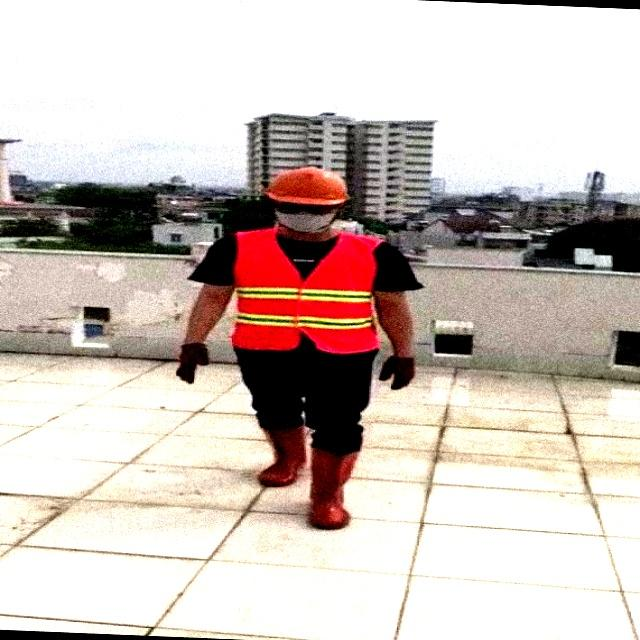helmet: (261, 154, 350, 205)
safety_vest: (213, 223, 386, 395)
